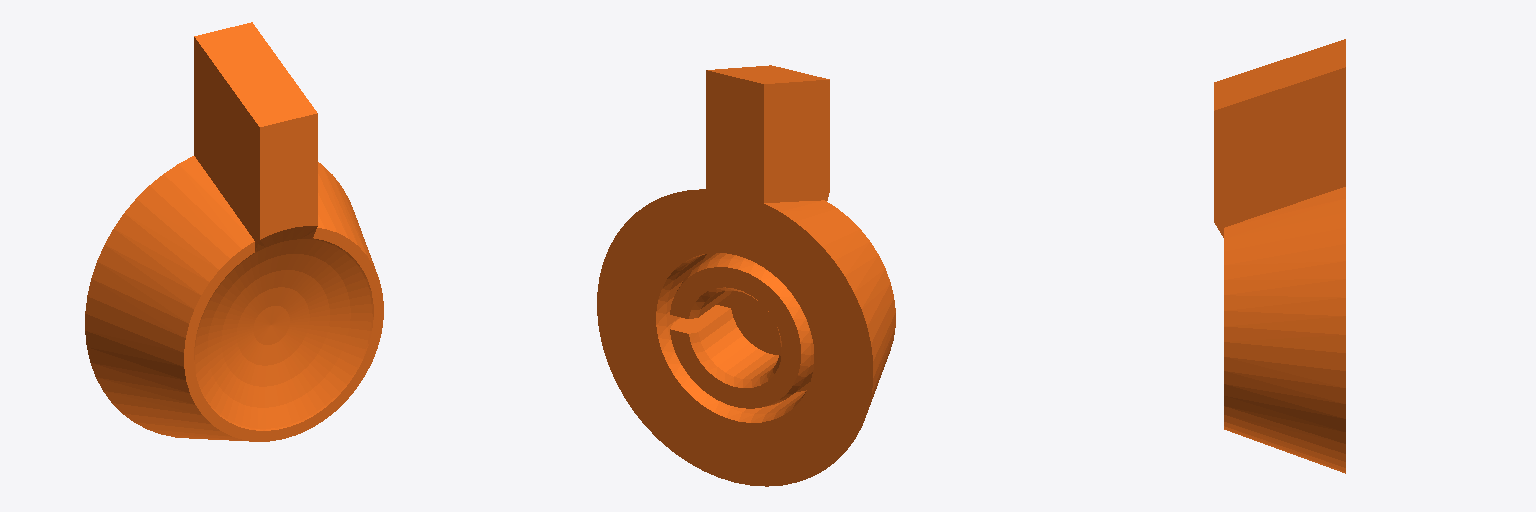
Rendered from bear21_mk3s_simulator_lcd_knob.obj.
The picture shows the model from 3 angles: view 1: azimuth 30°, elevation 25°; view 2: azimuth 150°, elevation 25°; view 3: azimuth 270°, elevation 25°; orthographic projection.
Visible parts, largest first — view 1: lcd_knob_v1_Body5_0; view 2: lcd_knob_v1_Body5_0; view 3: lcd_knob_v1_Body5_0.
Boxes of the visible parts, box(x1,y1,x2,y2) form: lcd_knob_v1_Body5_0: box(85, 22, 383, 441); lcd_knob_v1_Body5_0: box(597, 65, 895, 486); lcd_knob_v1_Body5_0: box(1214, 39, 1345, 473).
Size of the model in its own units: 2 by 2.8 by 0.82.